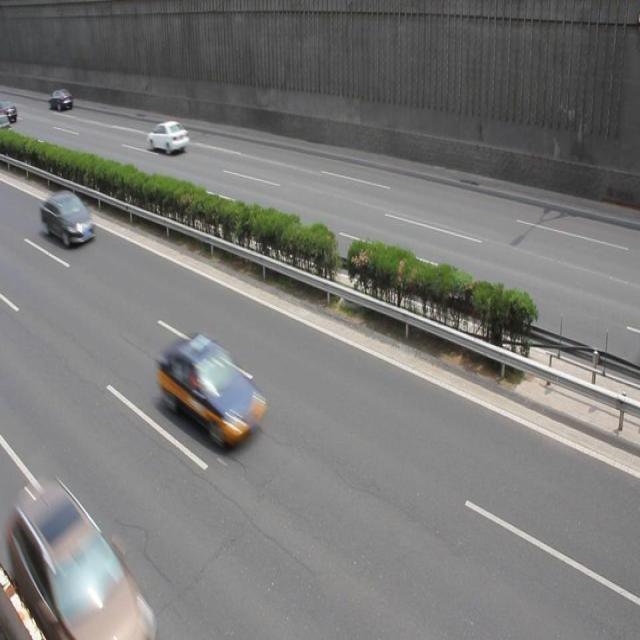car: (156, 332, 268, 447), (40, 190, 96, 249), (148, 118, 188, 153)
